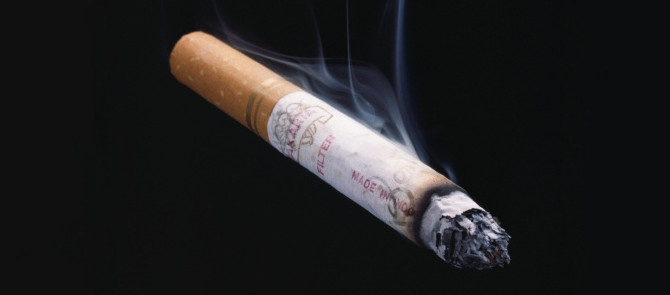sigaretta: (167, 34, 523, 265)
